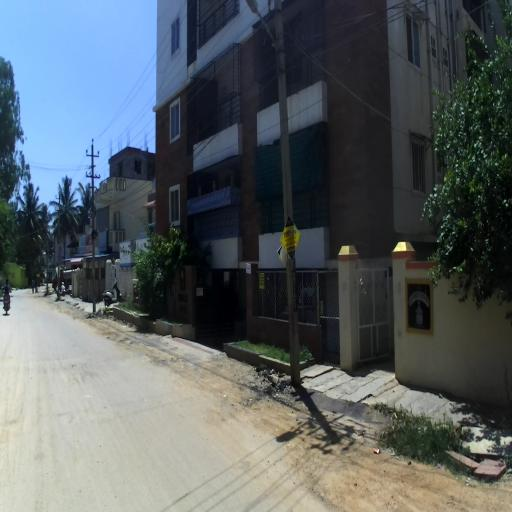street_light_0: (248, 1, 286, 73), (78, 182, 95, 211), (38, 235, 43, 240), (34, 238, 36, 242)
